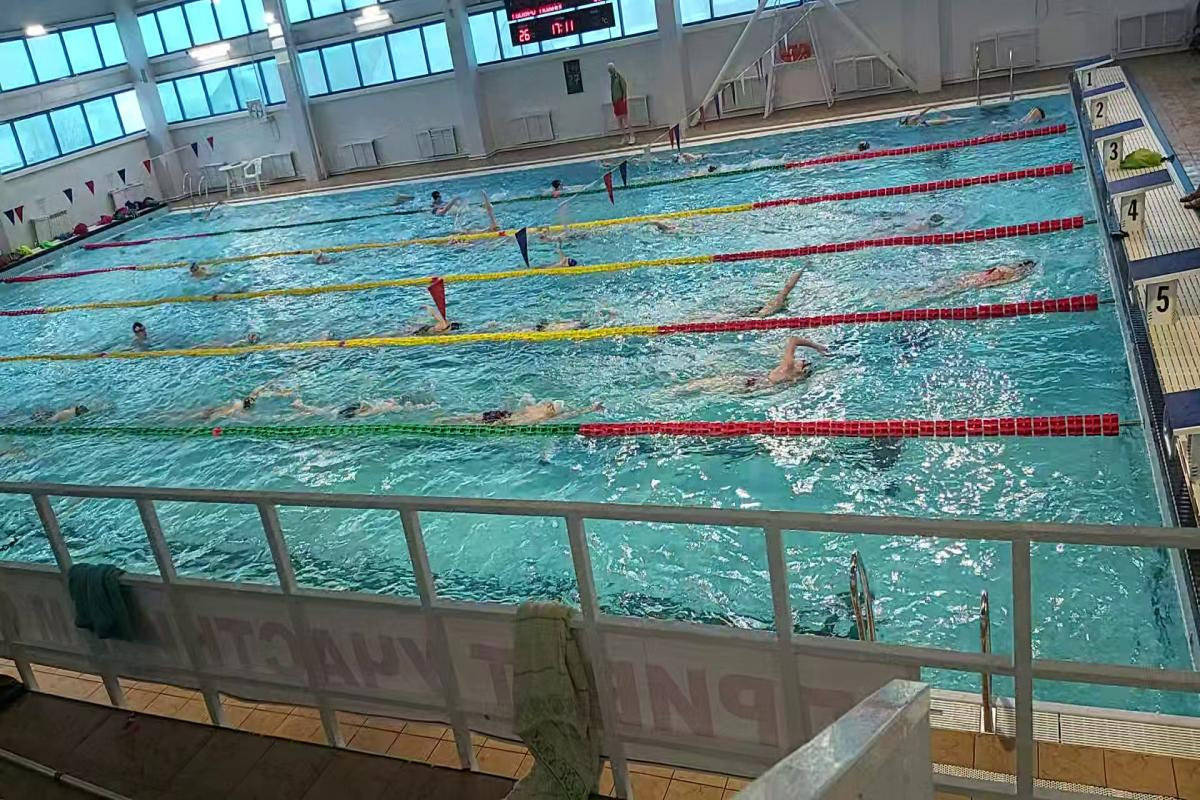swimmer: (666, 344, 828, 400), (908, 248, 1040, 305), (316, 384, 433, 424), (727, 266, 811, 320), (459, 389, 603, 419), (188, 376, 278, 424), (497, 306, 609, 332), (26, 395, 112, 427), (402, 297, 462, 338), (644, 214, 704, 240), (122, 315, 167, 348), (183, 257, 226, 284), (547, 237, 583, 267), (306, 247, 352, 269)
